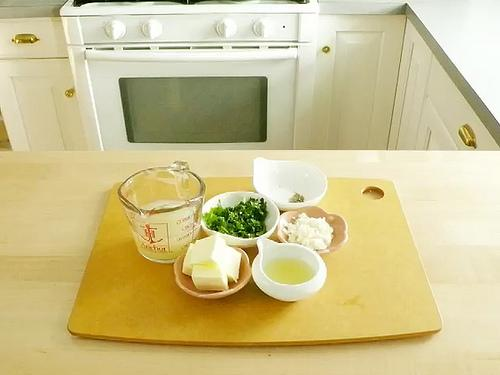cup: (117, 161, 205, 262)
